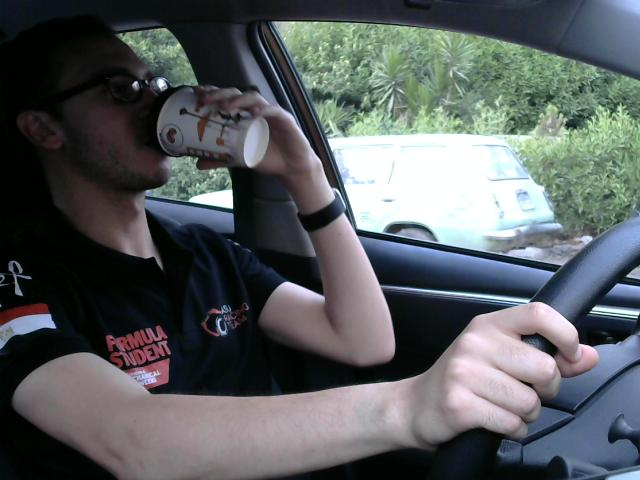Drinking: (149, 73, 277, 172)
